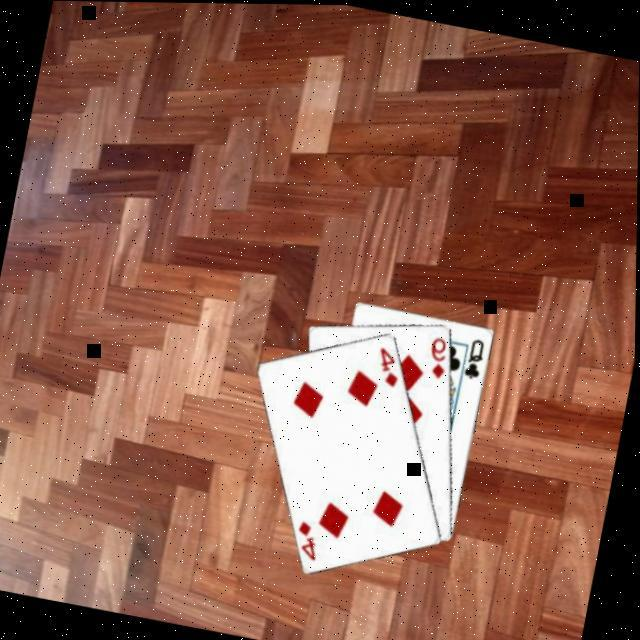4D: (370, 340, 406, 388), (290, 514, 326, 560)
9D: (421, 329, 453, 378)
QC: (458, 331, 488, 380)
